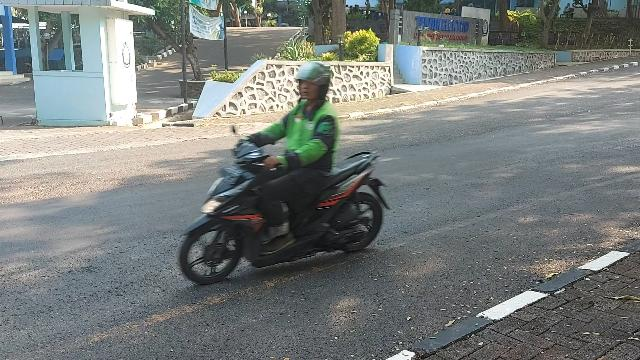helm: (297, 62, 332, 100)
motor: (181, 125, 391, 287)
